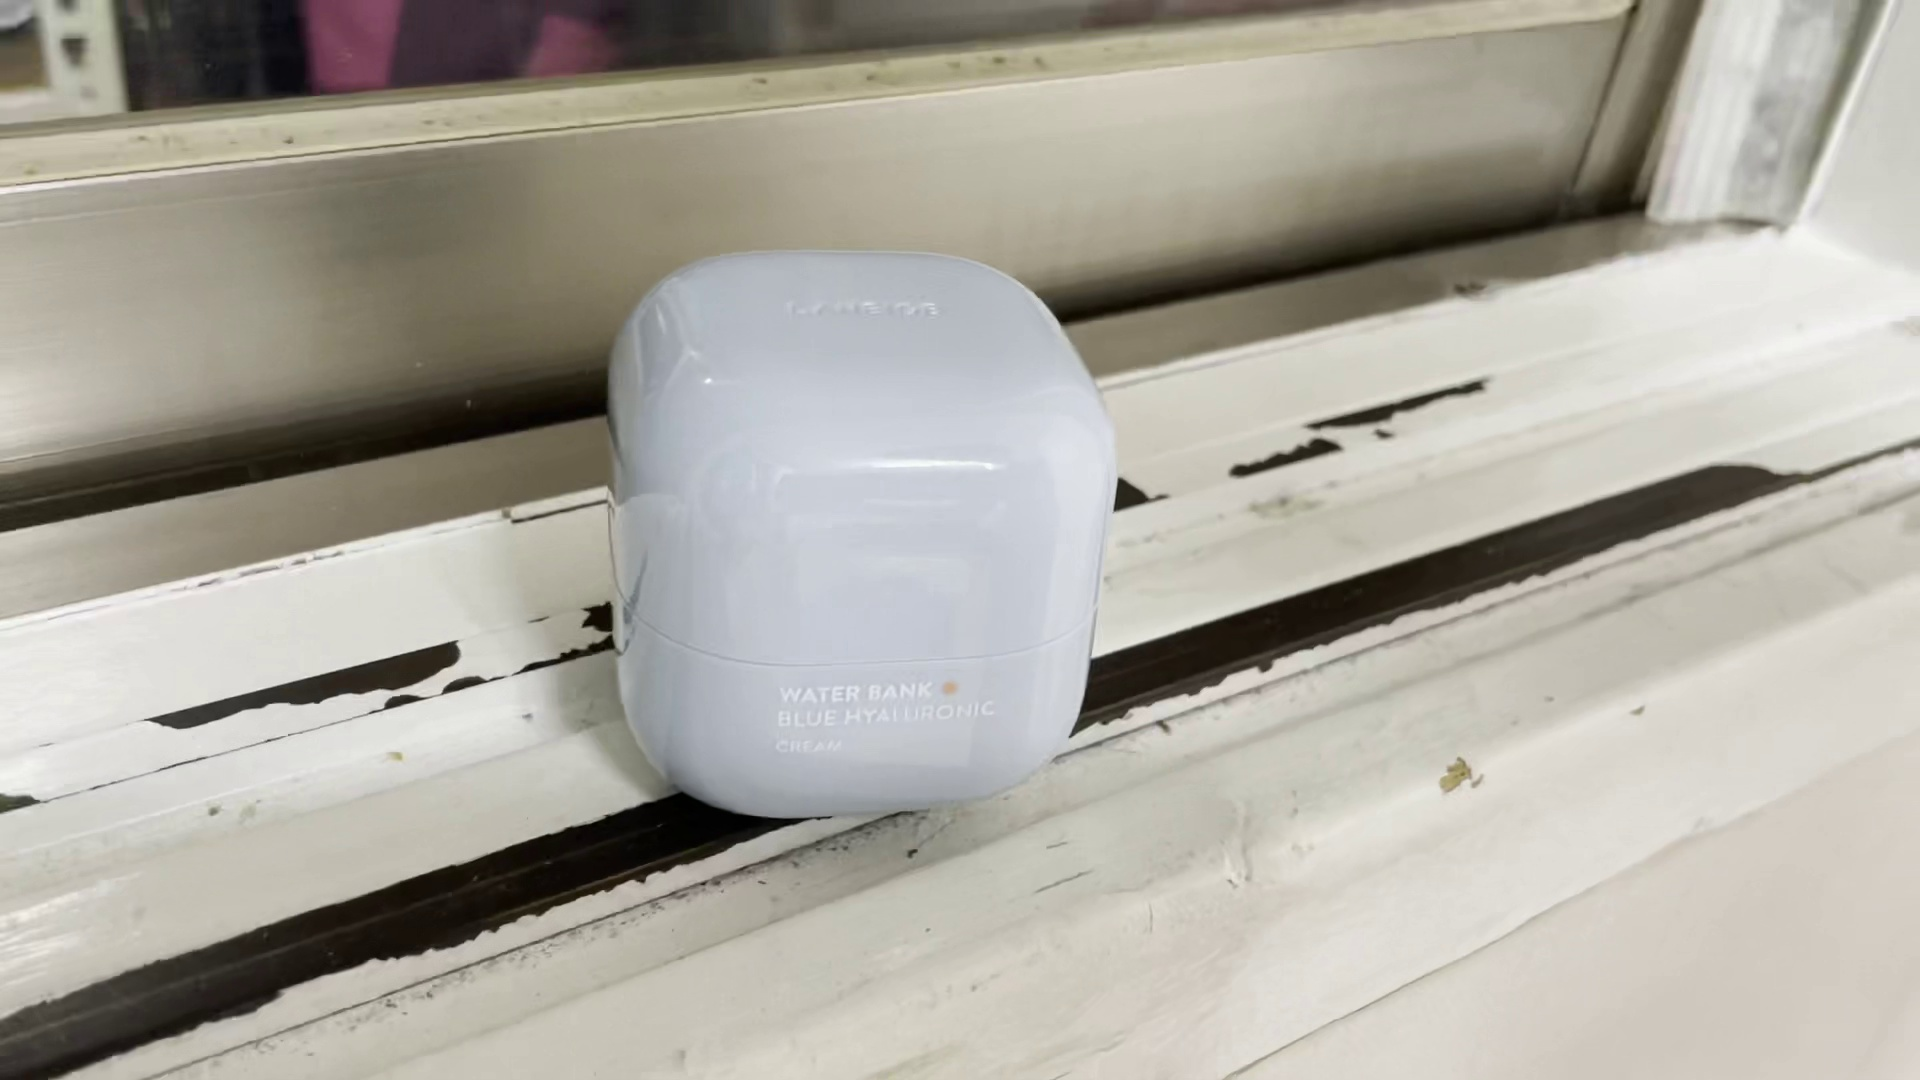cream: (615, 255, 1108, 815)
